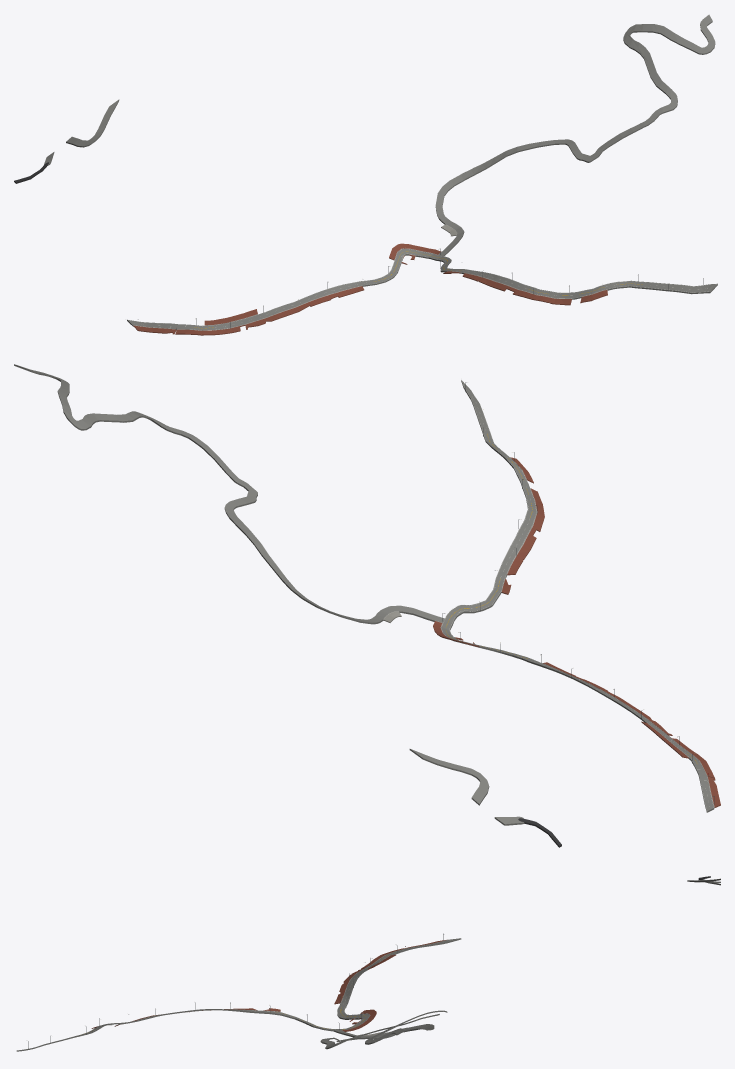
Rendered from 16-54712-29737.fdf2fec3.glb.
3 renders of one model, top to bottom at view 1: azimuth 30°, elevation 25°; view 2: azimuth 150°, elevation 25°; view 3: azimuth 270°, elevation 25°, orthographic. The views are drawn at different scales.
Size of the model in its own units: 589 by 193 by 585.
